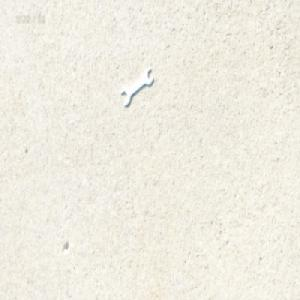Wrench: (121, 67, 154, 106)
